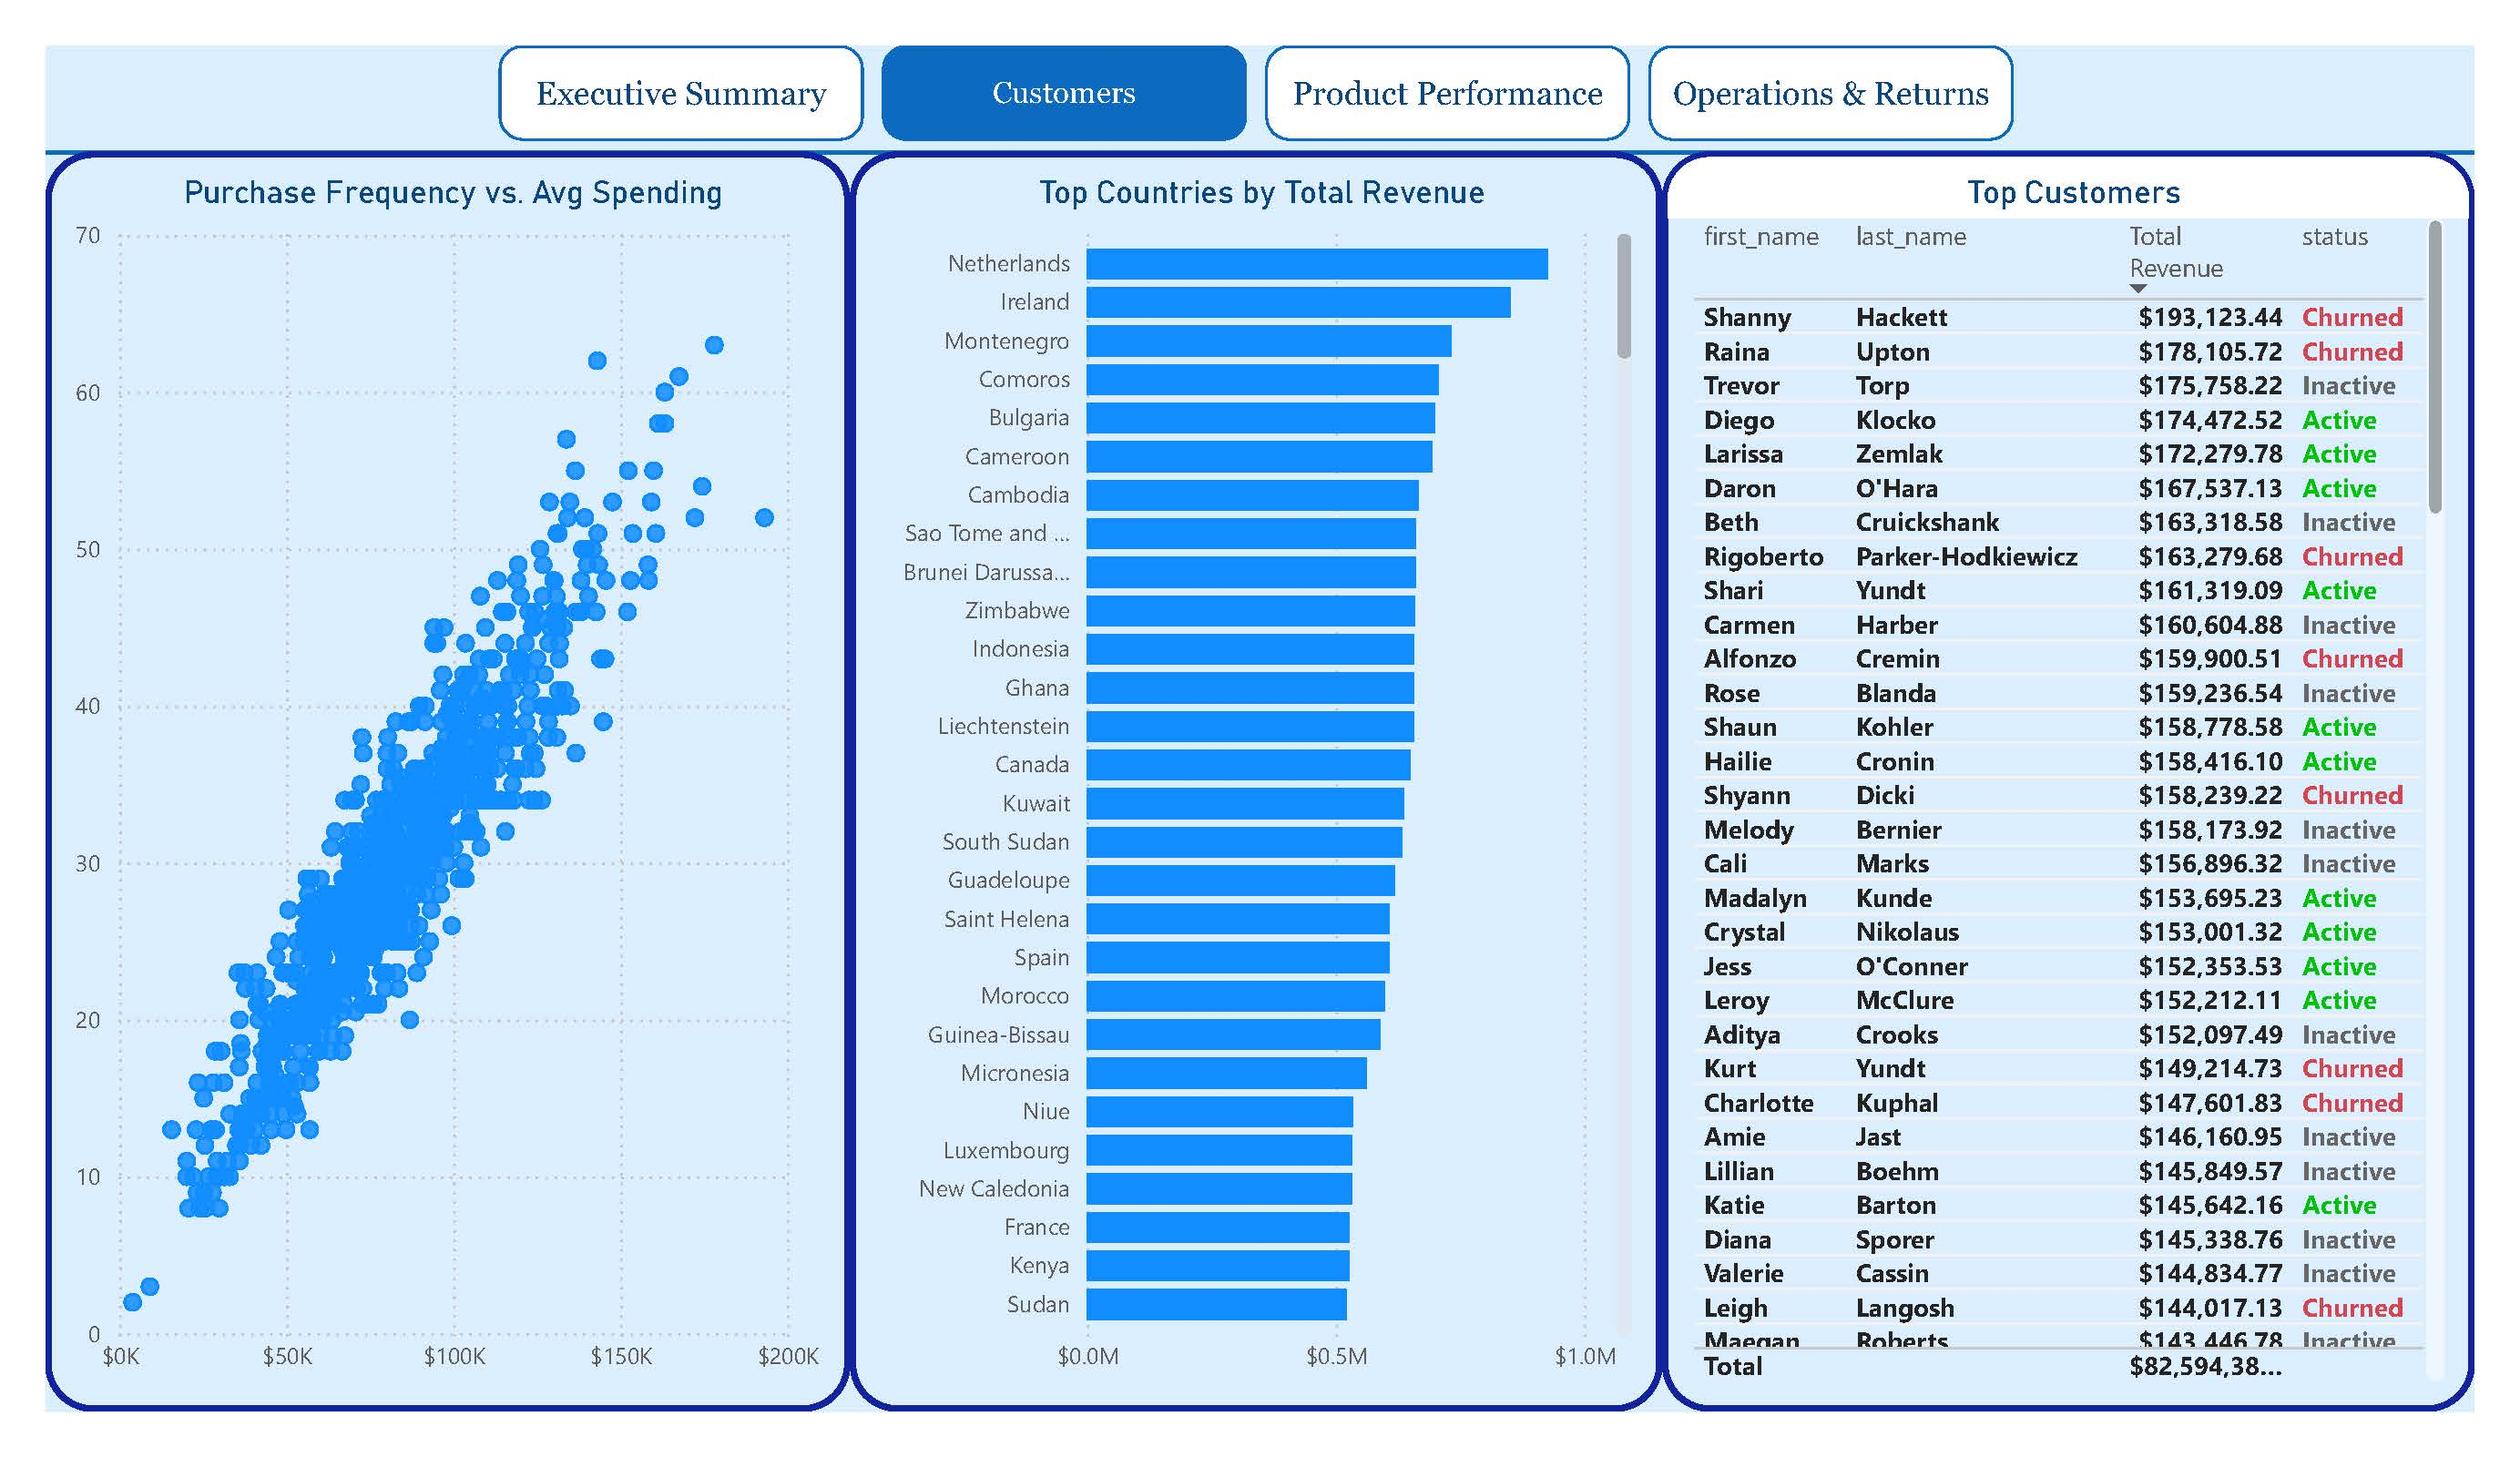

The dashboard page shown, as its layout file describes it:
{"tool":"powerbi","page":{"name":"Customers","canvas":[1280,720],"ordinal":1},"visuals":[{"type":"shape","box":[0,0,1280,112.8],"z":0},{"type":"pageNavigator","box":[239.3,0,800.5,49.6],"z":1000},{"type":"scatterChart","title":"Purchase Frequency vs. Avg Spending","fields":{"X":["Measure.Avg Spending per Customer"],"Y":["Measure.Purchase Frequency"],"Category":["customers.first_name","customers.last_name"]},"box":[0,56.3,424.4,664.2],"z":2000},{"type":"barChart","title":"Top Countries by Total Revenue","fields":{"Category":["customers.country","customers.city"],"Y":["Measure.Total Revenue"]},"box":[424.4,56.3,427.8,664.2],"z":3000},{"type":"tableEx","title":"Top Customers","fields":{"Values":["customers.first_name","customers.last_name","Measure.Total Revenue","customers.status"]},"box":[852.2,56.3,427.8,664.2],"z":4000}]}

Visuals, with their boxes on the page's 1280x720 design canvas (x1, y1, x2, y2). These are canvas units, not pixel positions in the 2520x1457 screenshot, which may show the page scaled, cropped or inside an application window:
shape: Rect(0, 0, 1280, 113)
pageNavigator: Rect(239, 0, 1040, 50)
"Purchase Frequency vs. Avg Spending" scatterChart: Rect(0, 56, 424, 720)
"Top Countries by Total Revenue" barChart: Rect(424, 56, 852, 720)
"Top Customers" tableEx: Rect(852, 56, 1280, 720)
